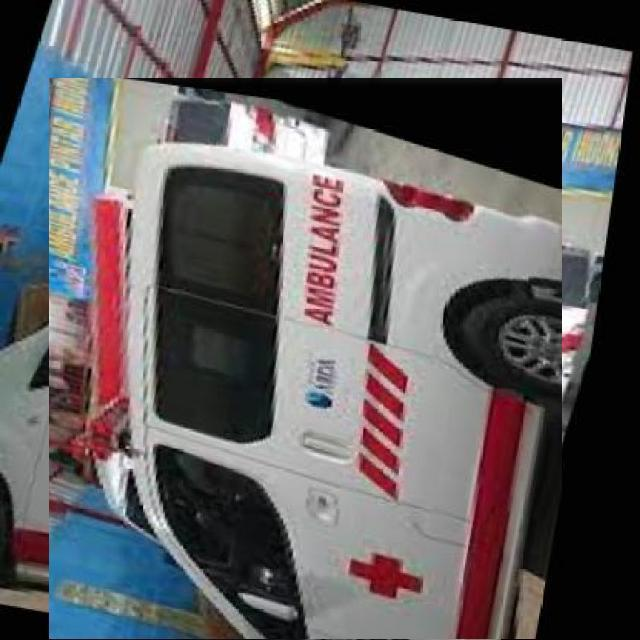emergency-vehicle: (24, 102, 587, 640)
